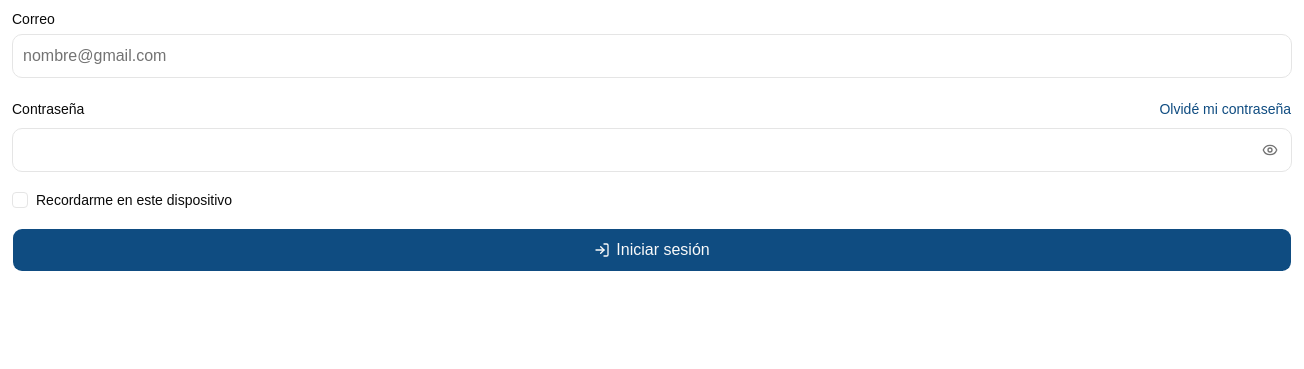
LoginForm › si el servicio falla muestra una alerta para reintentar
The image size is (1304, 369).
Type "ana@gmail.com" into the field labelled "Correo".
click(652, 56); type("ana@gmail.com")  # box left=12, top=34, right=1292, bottom=78
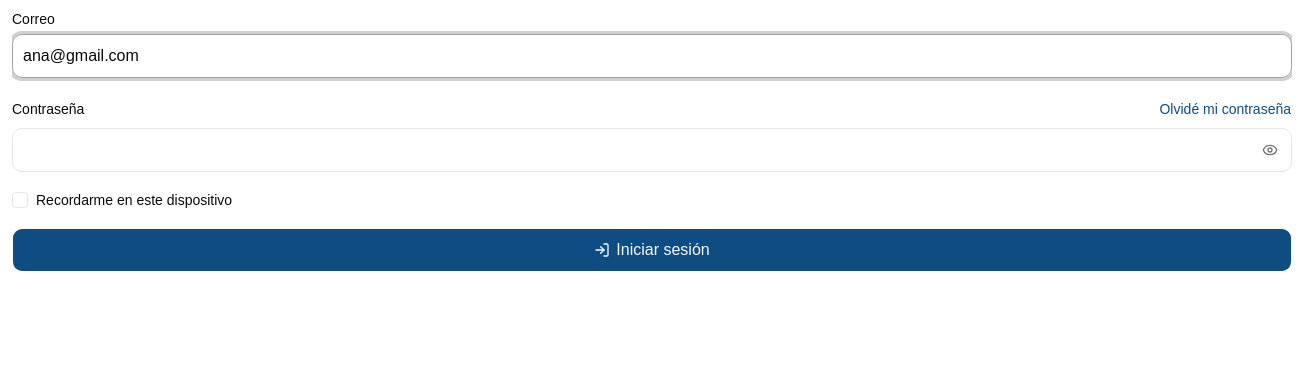
Type "secreta123" into the password field labelled "Contraseña".
click(652, 150); type("secreta123")  # box left=12, top=128, right=1292, bottom=172
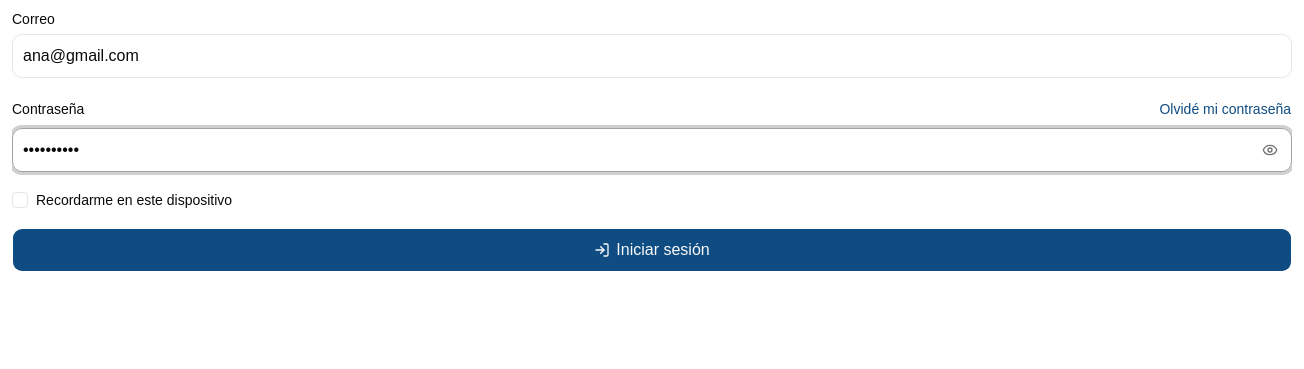
Click the button "Iniciar sesión".
click(652, 250)  # box left=12, top=228, right=1292, bottom=272
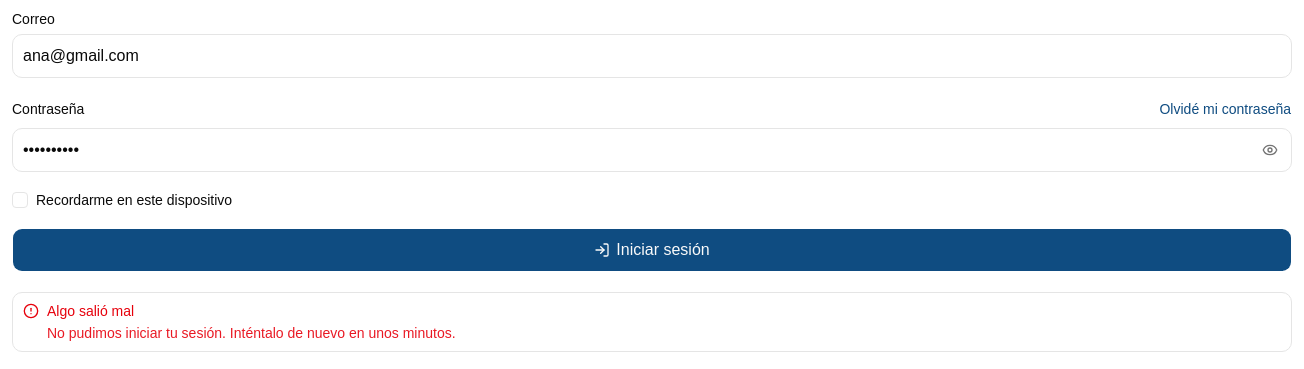
Expected: the message shows "Inténtalo de nuevo en unos minutos.", left=47, top=325, right=456, bottom=341
